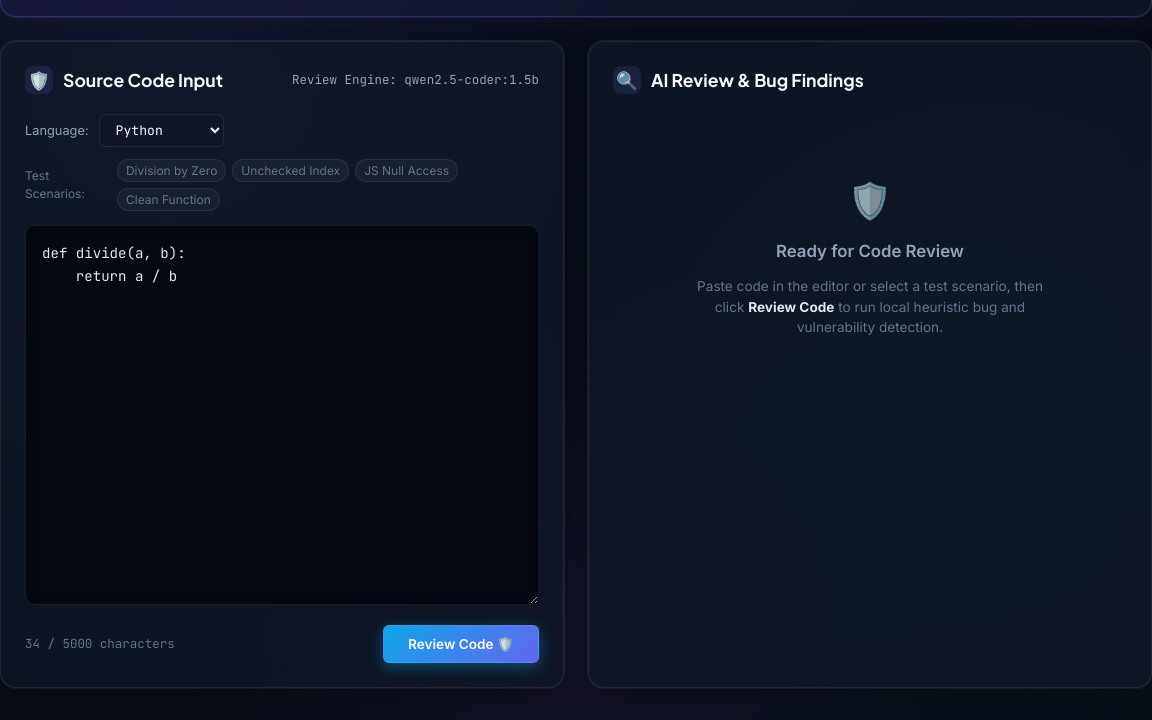
CodeReviewView Feature Integration › displays loading skeleton during AI inference and disables button
(page scrolled)
Click the button named "Review Code with AI".
click(461, 644)  # box x1=383 y1=625 x2=539 y2=663
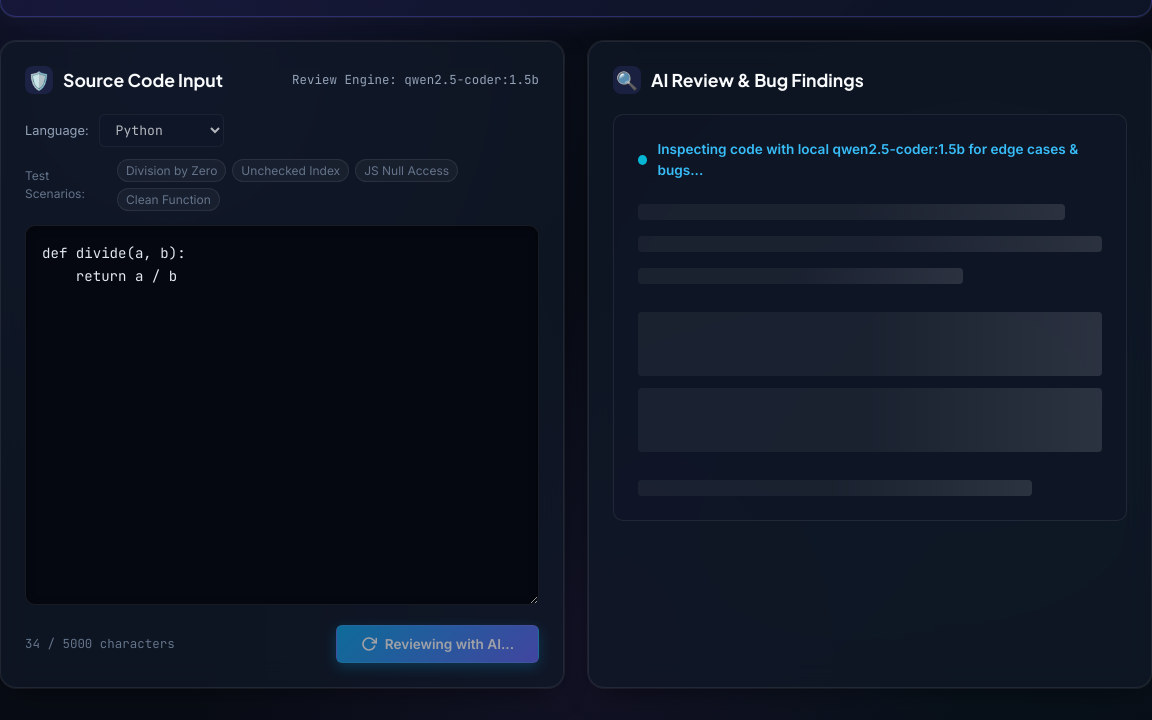
Now the text "Inspecting code with local qwen2.5-coder:1.5b for edge cases & bugs" is shown, box x1=658 y1=141 x2=1078 y2=178
Now the button named "Review Code with AI" is disabled, box x1=336 y1=625 x2=539 y2=663
